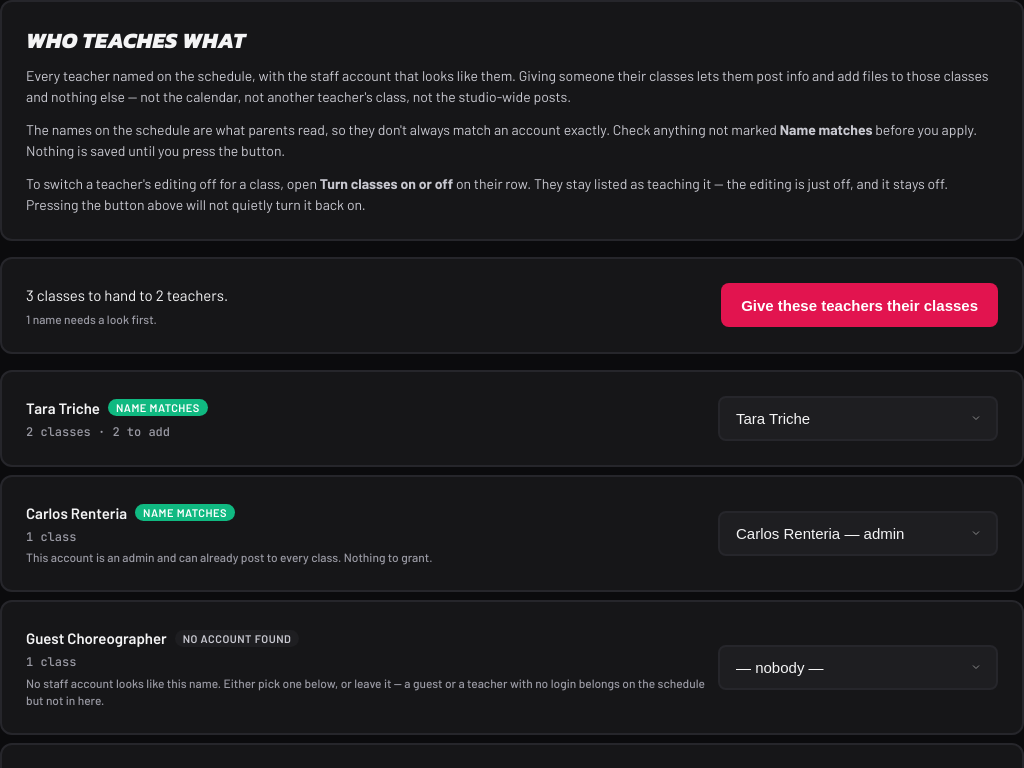
applying › says what happened, in words, when it worked
This screenshot has width=1024, height=768.
Check: the dropdown named "Staff account for Tara Triche" is shown, box x1=718 y1=396 x2=998 y2=441
What coordinates should you click on to do the following:
click the button "Give these teachers their classes"
I would click on:
 (860, 305)
Its box is x1=721 y1=283 x2=998 y2=327.
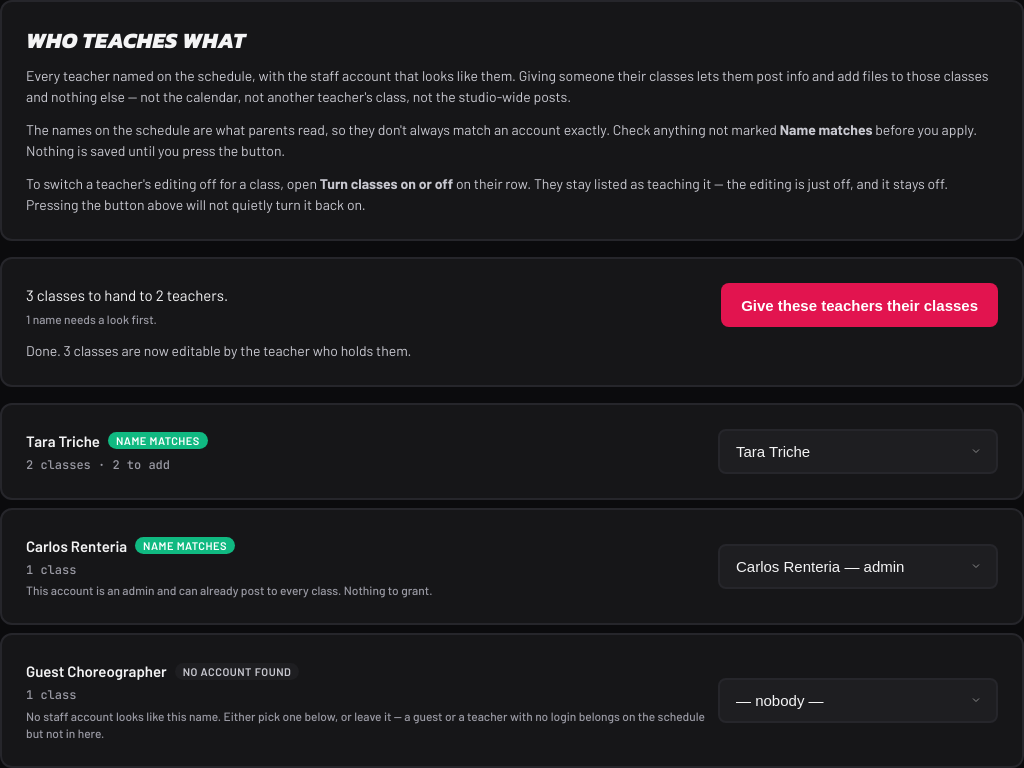
Check: the message shows "3 classes are now editable", box x1=26 y1=342 x2=411 y2=359
